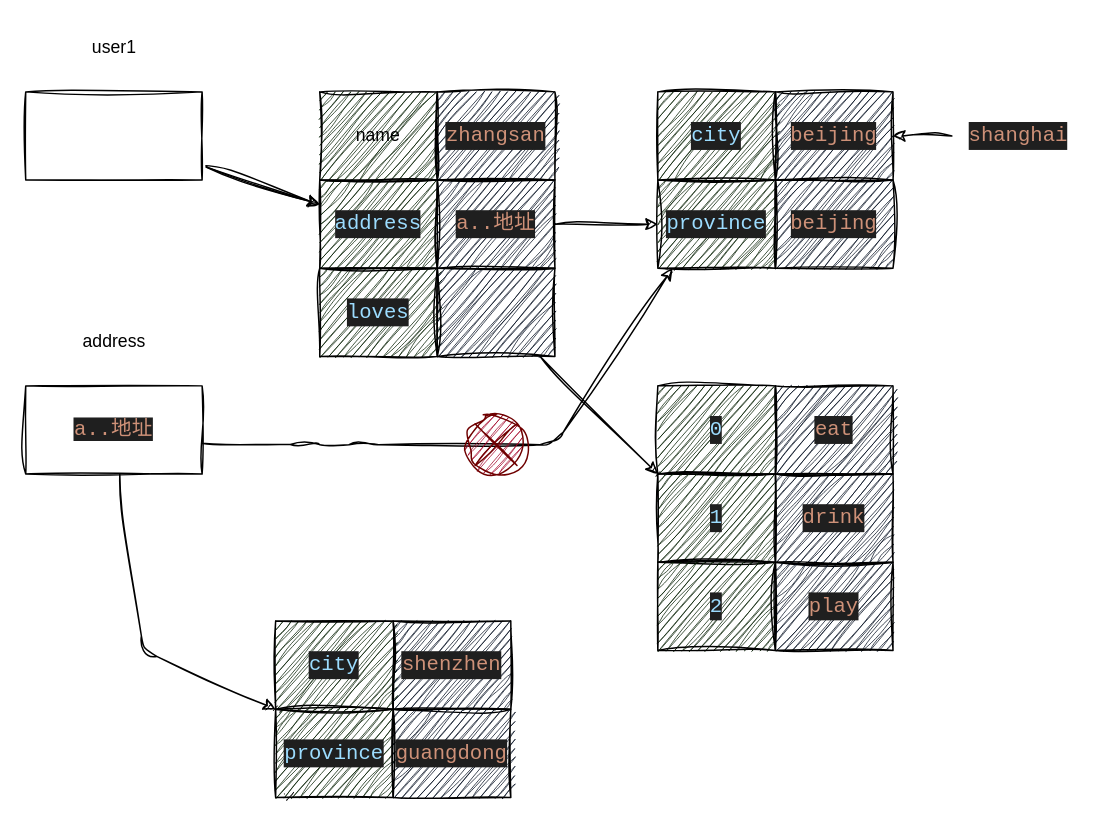
The diagram is 1110 pixels wide and 838 high, and some of its shapes have lost their labels. The shapes that lost their labels are listed below. From the top down, each one's centre as x and y in pixels, then its label:
At (x=113, y=135): "user1地址".
At (x=495, y=311): "l..地址".
